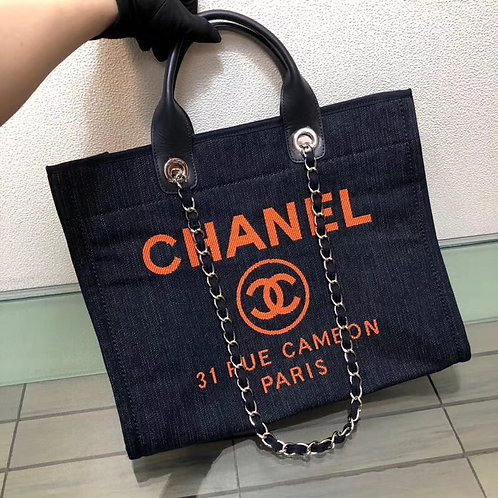channel: (28, 100, 476, 450), (116, 199, 394, 273), (176, 211, 251, 408), (229, 250, 316, 343)
